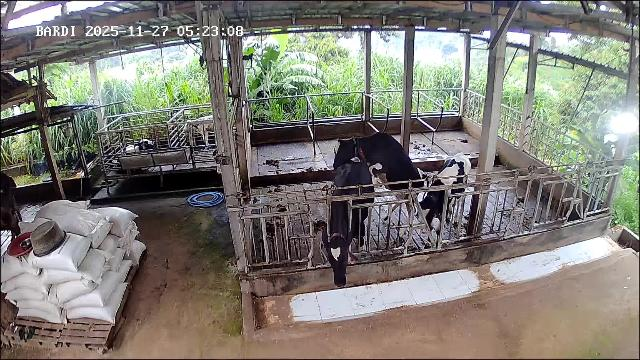mounting: (331, 132, 424, 224)
